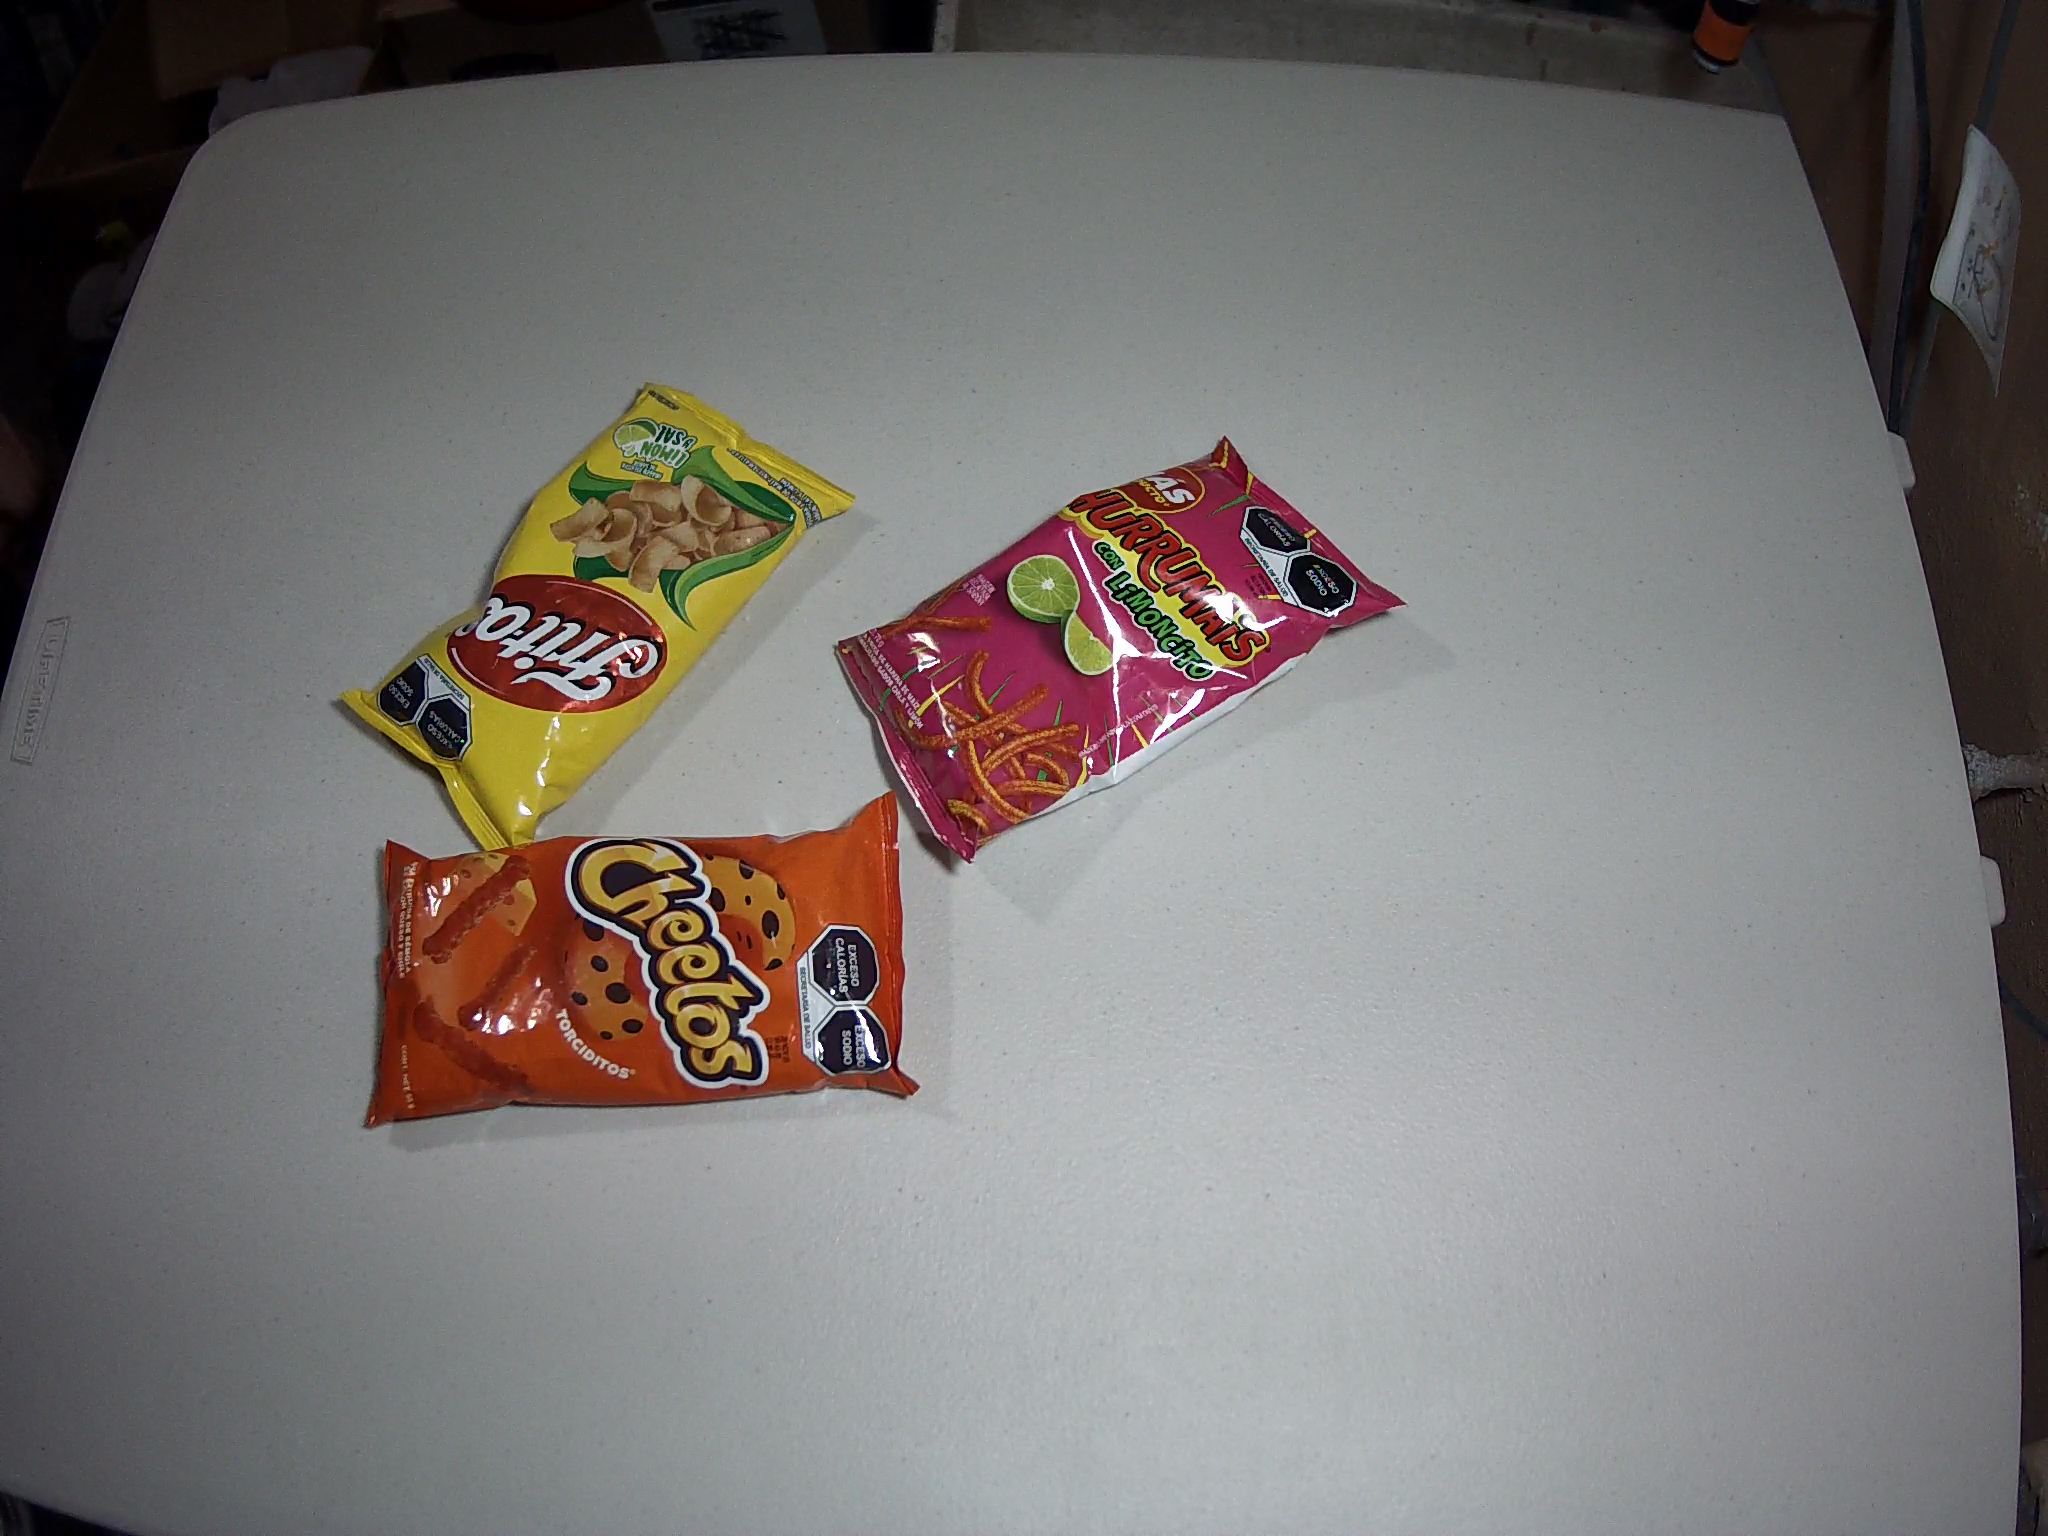CheetosTorciditos_55_F: (363, 791, 926, 1133)
Churrumais_70_F: (830, 436, 1409, 866)
FritosSalLimon_65_F: (339, 382, 856, 865)
